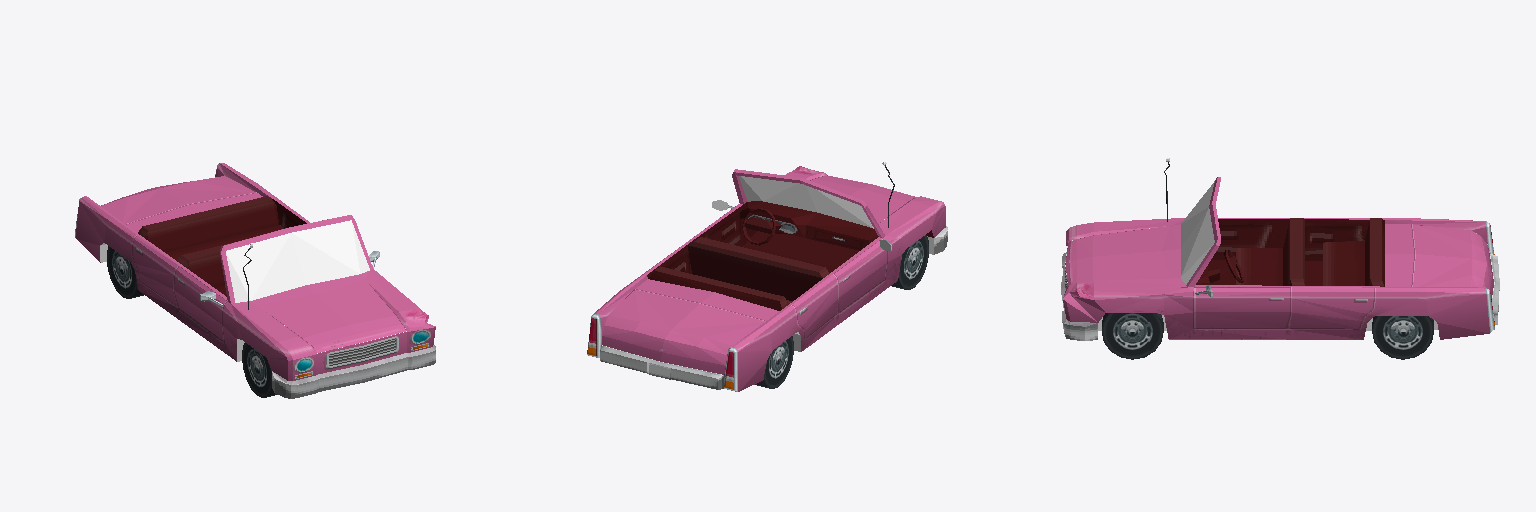
3 views of the same model, side by side, from view 1: azimuth 30°, elevation 25°; view 2: azimuth 150°, elevation 25°; view 3: azimuth 270°, elevation 25° (orthographic).
Visible parts, largest first — view 1: famil_vShape; view 2: famil_vShape; view 3: famil_vShape.
Part boxes in pixels (x1,y1,x2,y2): famil_vShape: (75,163,435,398); famil_vShape: (587,161,947,391); famil_vShape: (1061,158,1499,359).
Size of the model in its own units: 2.52 by 1.84 by 5.35.
11 materials, 8 textured.